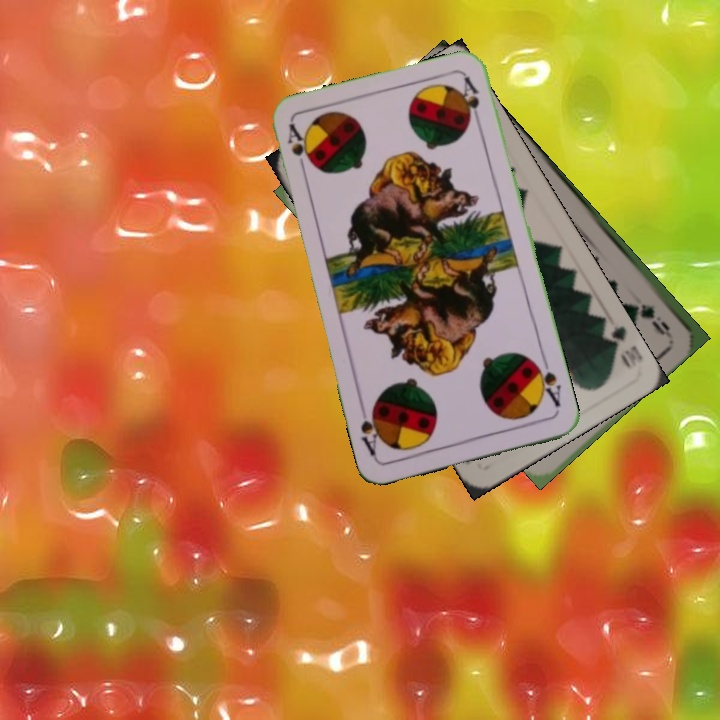G10: (601, 322, 645, 370)
G9: (636, 299, 674, 339)
SA: (529, 354, 564, 410), (283, 120, 313, 178)
